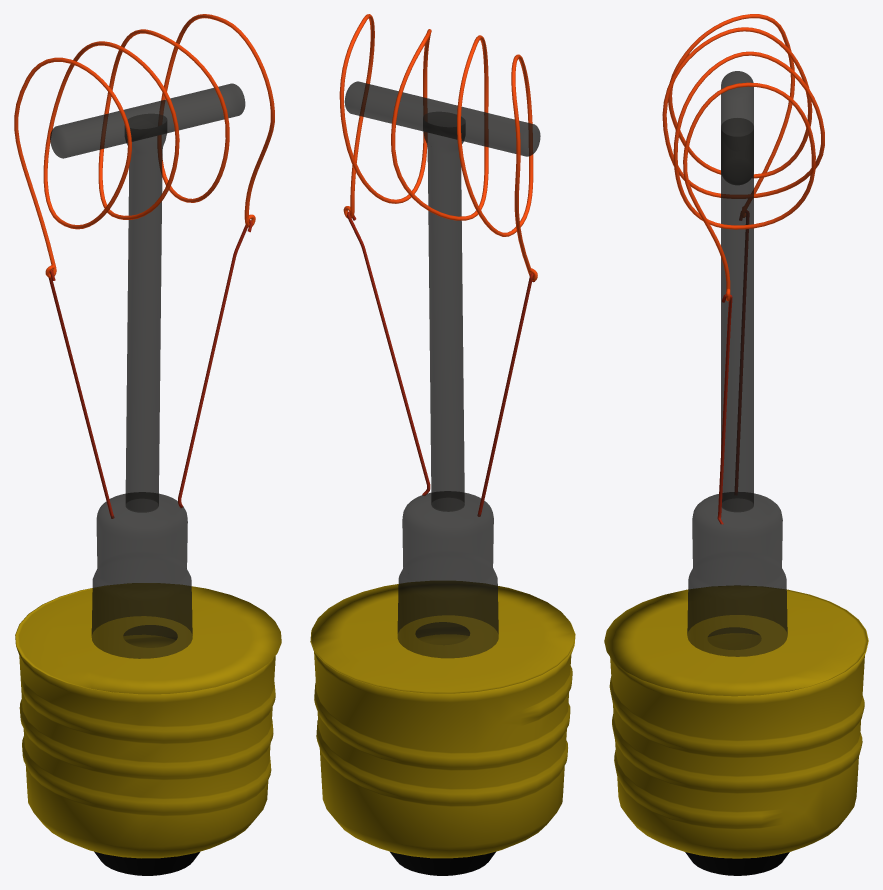
File: lightBulbCenter.obj
3 views of the same model, side by side, from view 1: azimuth 30°, elevation 25°; view 2: azimuth 150°, elevation 25°; view 3: azimuth 270°, elevation 25° (orthographic).
Parts seen in each view (by area): view 1: Sphere; view 2: Sphere; view 3: Sphere.
Part boxes in pixels (box(x1,y1,x2,y2)): Sphere: box(14, 14, 281, 875); Sphere: box(310, 14, 575, 875); Sphere: box(604, 14, 868, 875).
Size of the model in its own units: 0.5629 by 1.94 by 0.5652.
